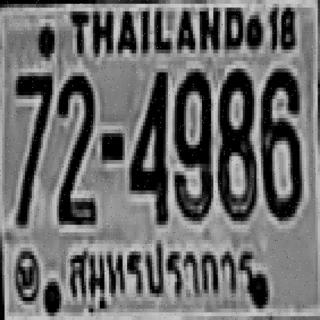N02: (57, 73, 93, 221)
N04: (130, 68, 166, 221)
N06: (259, 65, 300, 217)
N07: (14, 72, 50, 225), (14, 72, 50, 183)
N08: (216, 65, 254, 217)
N09: (172, 68, 211, 217)
P57: (58, 240, 259, 309)
